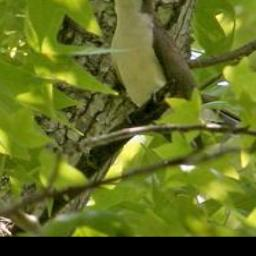Cuckoo: (89, 0, 244, 151)
